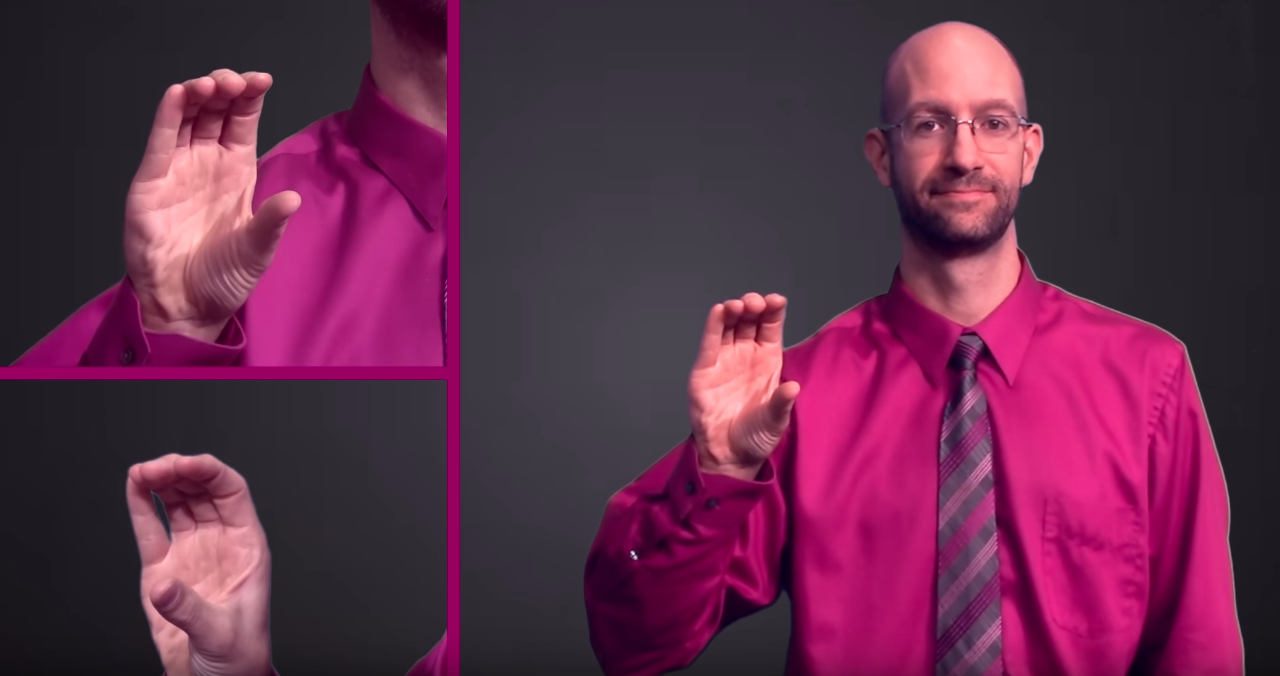c: (115, 58, 308, 338), (112, 445, 297, 675), (679, 283, 808, 478)
